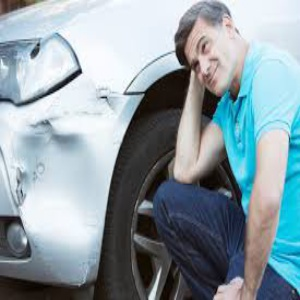bumper: (3, 84, 120, 283)
